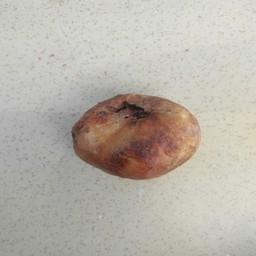Bad_guava: (69, 86, 205, 185)
